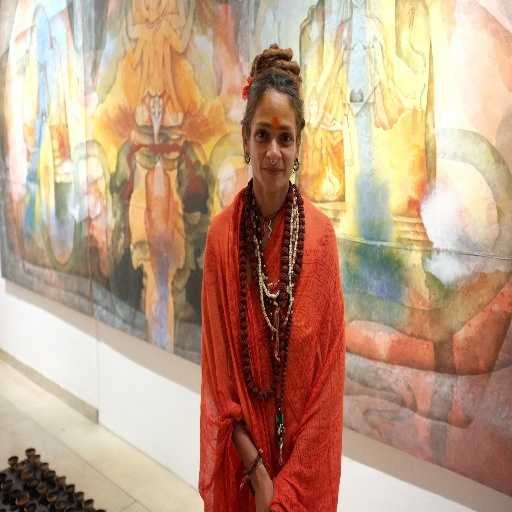hand: (253, 472, 273, 511), (171, 103, 182, 113), (120, 15, 126, 30), (189, 0, 195, 10), (136, 98, 140, 106)
